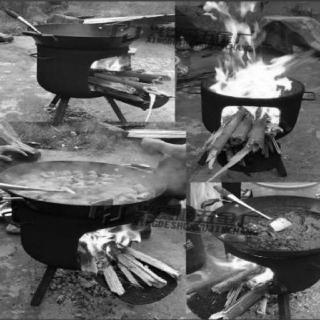Fire: (202, 0, 316, 98), (194, 249, 280, 287), (72, 221, 146, 259), (220, 100, 284, 126)
other: (86, 196, 112, 216), (105, 18, 132, 34)
